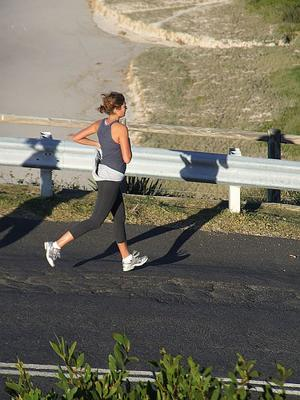person: (44, 92, 150, 274)
